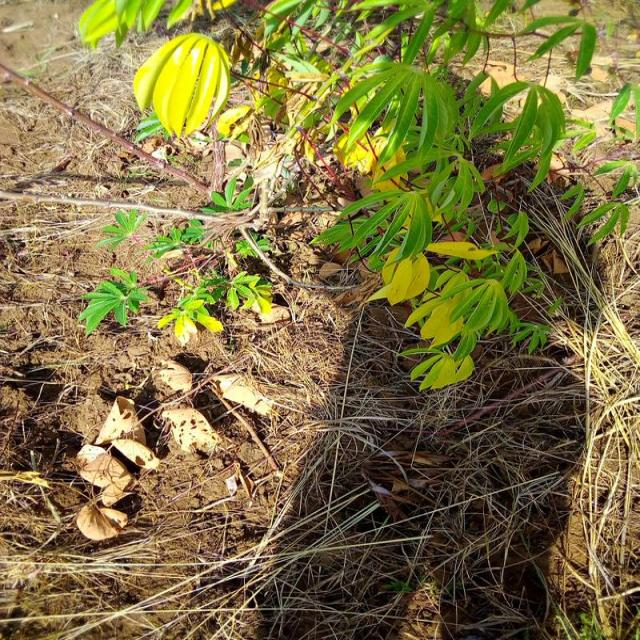cassava leaf: (132, 31, 231, 140)
